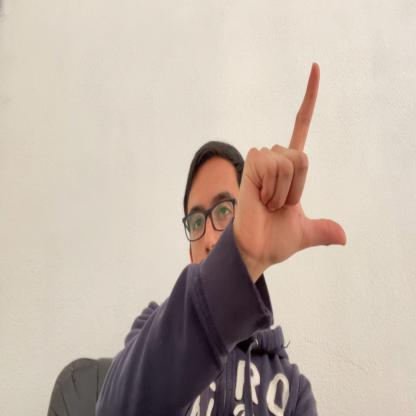L: (236, 62, 347, 268)
